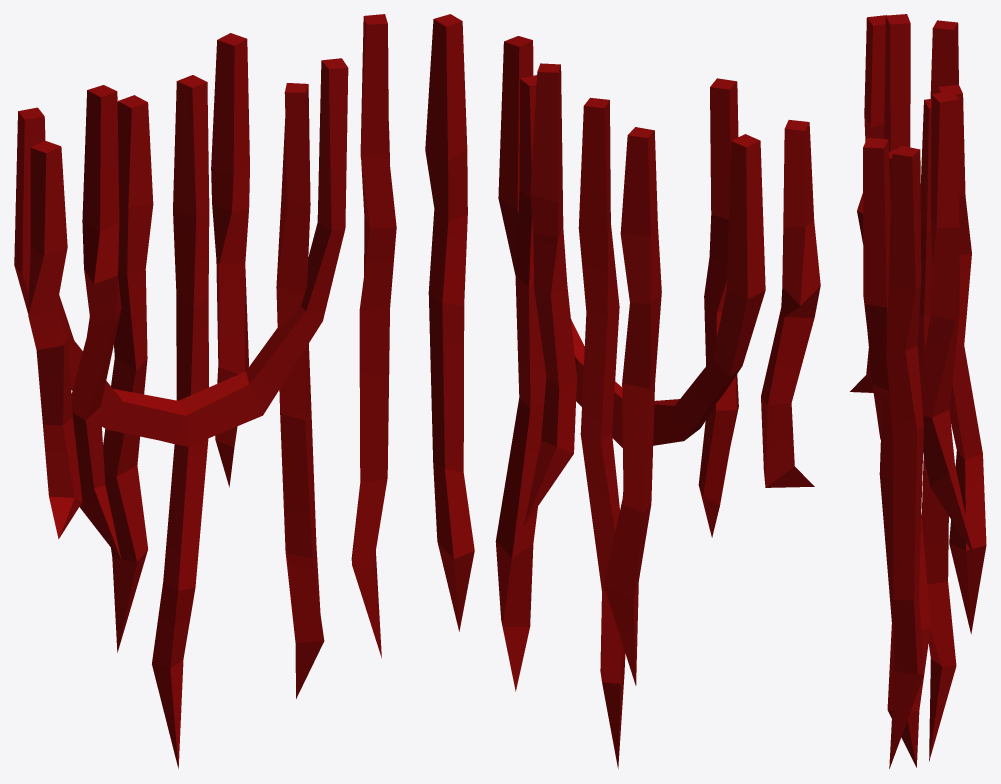
File: SM_Gen_Env_Vines_04.glb
3 views of the same model, side by side, from view 1: azimuth 30°, elevation 25°; view 2: azimuth 150°, elevation 25°; view 3: azimuth 270°, elevation 25° (orthographic). The views are drawn at different scales.
Parts seen in each view (by area): view 1: SM_Gen_Env_Vines_042; view 2: SM_Gen_Env_Vines_042; view 3: SM_Gen_Env_Vines_042.
Boxes of the visible parts, <box> form: SM_Gen_Env_Vines_042: <box>14,14,396,768</box>; SM_Gen_Env_Vines_042: <box>425,14,820,768</box>; SM_Gen_Env_Vines_042: <box>850,14,986,768</box>.
Size of the model in its own units: 1.17 by 2.08 by 0.3694.
